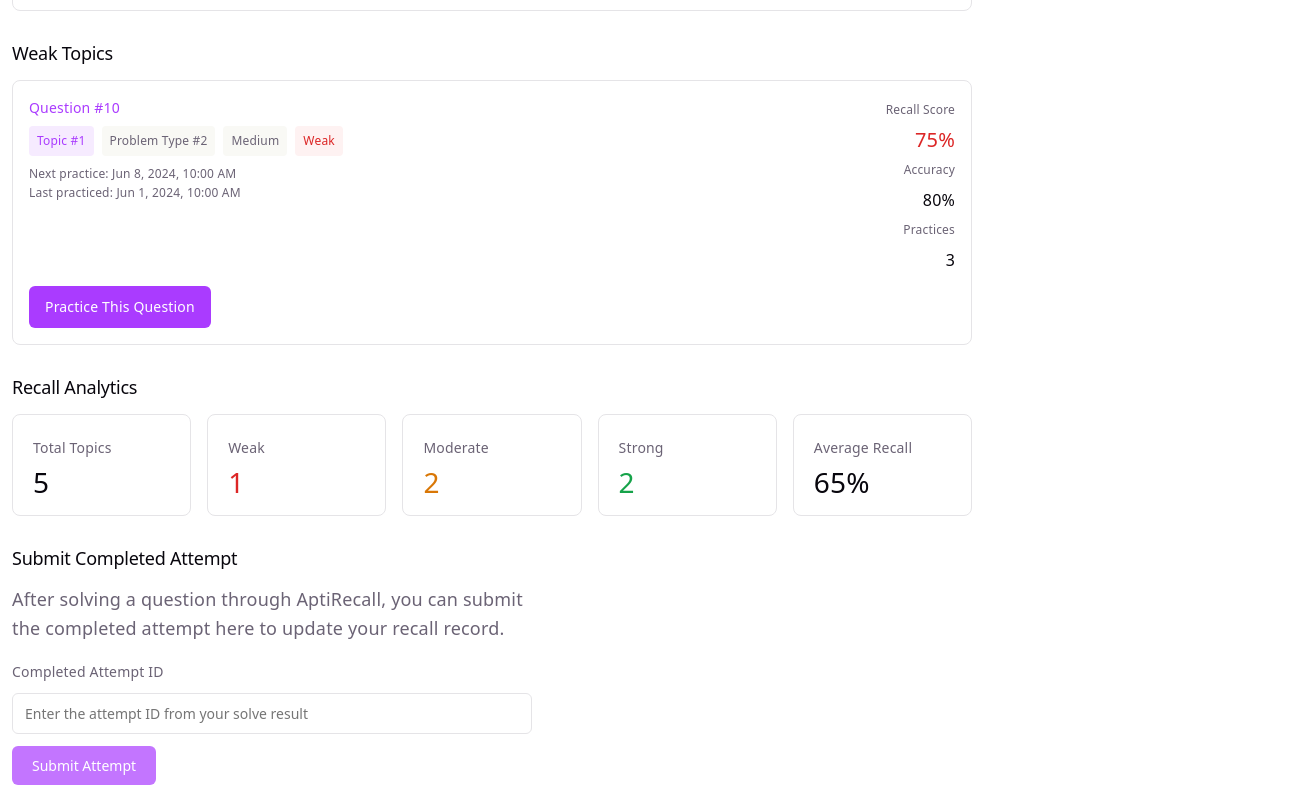
Test: Recall › shows not found error for missing attempt
The width and height of the screenshot is (1292, 785).
(page scrolled)
Type "5" into the number field labelled "Completed Attempt ID" at coordinates (272, 714), box x1=12 y1=693 x2=532 y2=734
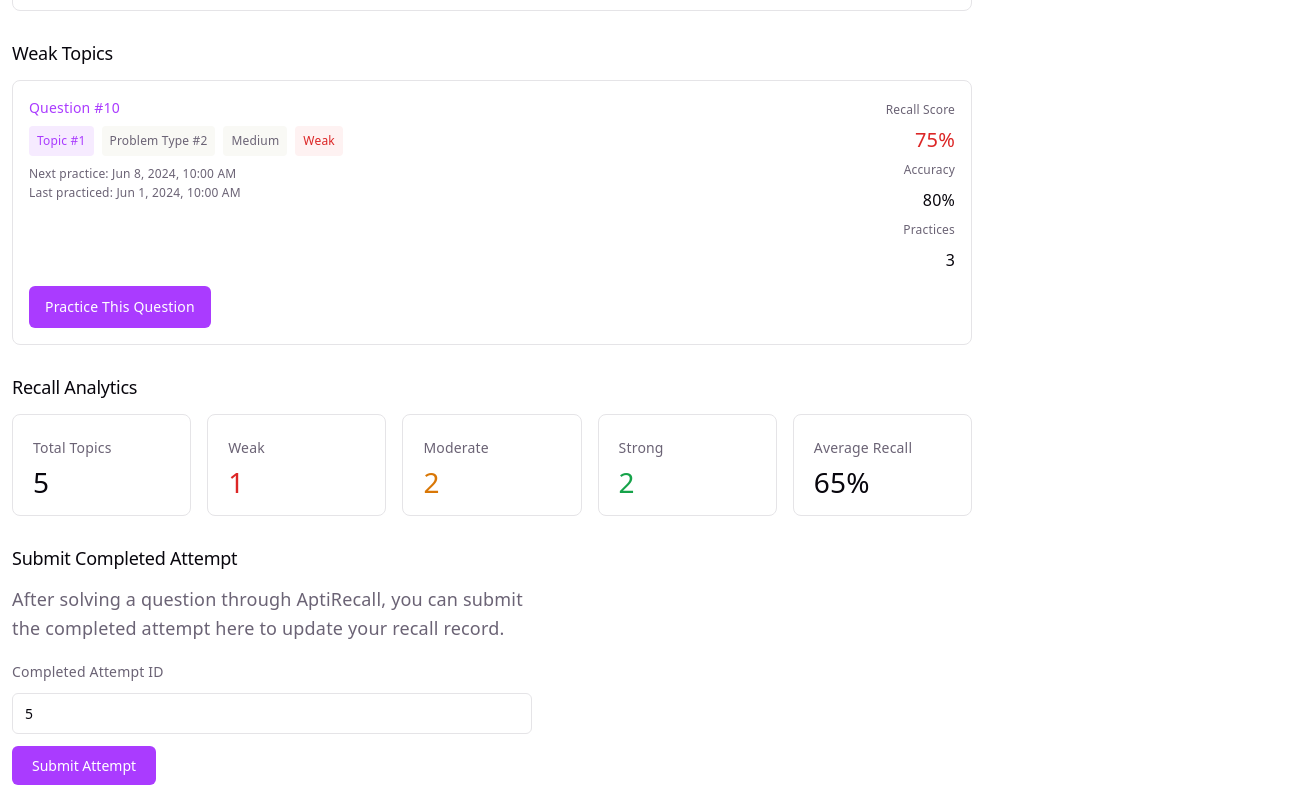
Click the button "Submit Attempt" at coordinates (84, 766), box x1=12 y1=746 x2=156 y2=784
(page scrolled)
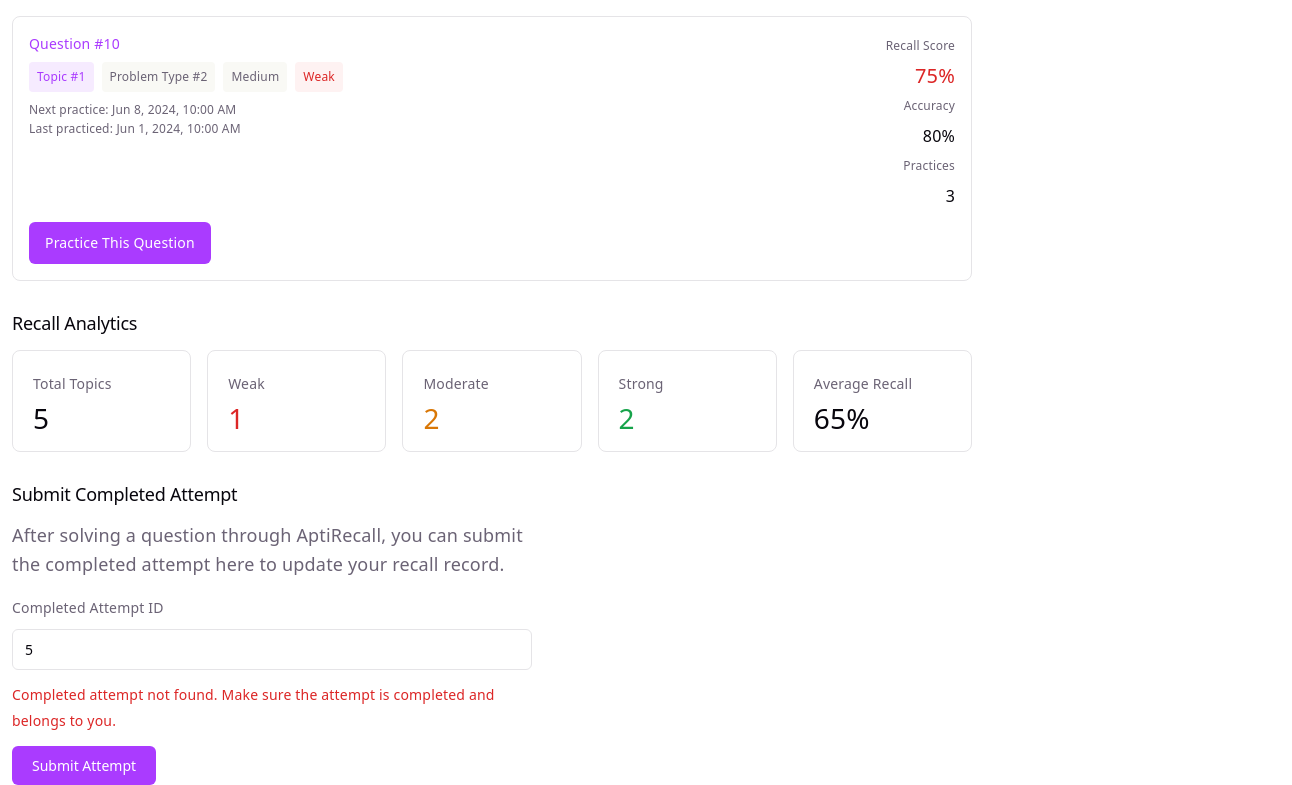
Result: the text "Completed attempt not found. Make sure the attempt is completed and belongs to you." is shown at x1=12 y1=685 x2=495 y2=730
